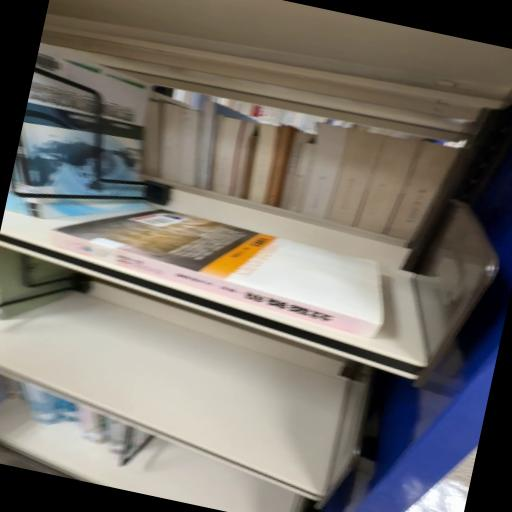flat: (56, 211, 385, 338)
